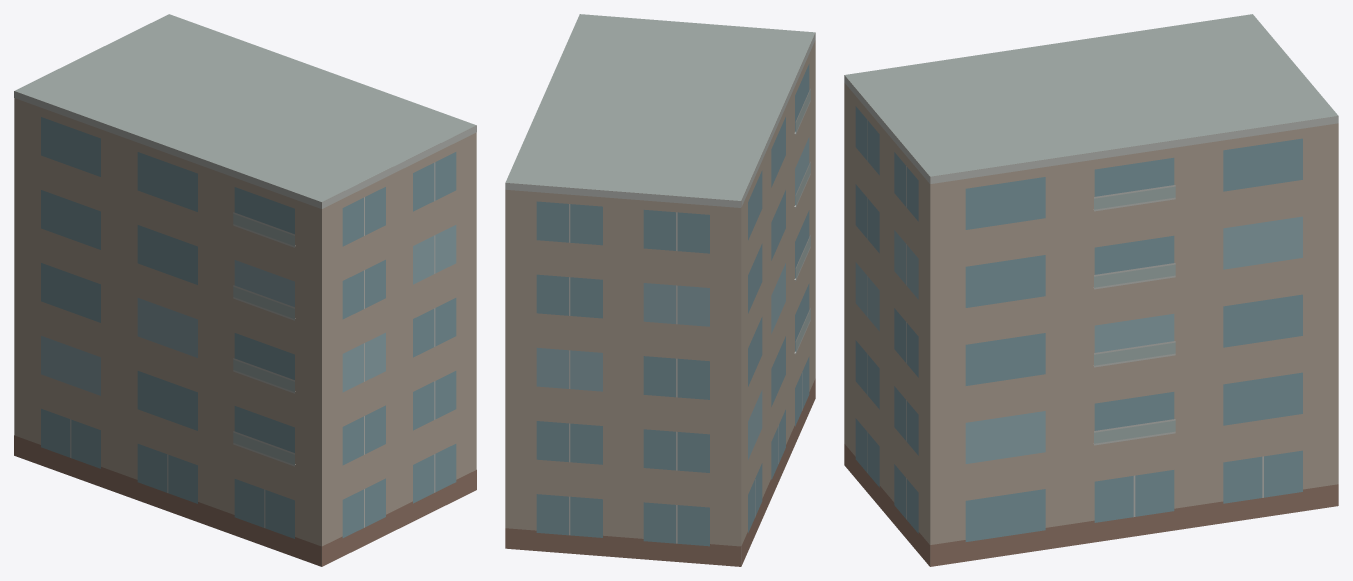
The model's file is survey-upis-32723432.glb.
3 views of the same model, side by side, from view 1: azimuth 30°, elevation 25°; view 2: azimuth 150°, elevation 25°; view 3: azimuth 270°, elevation 25° (orthographic). The views are drawn at different scales.
Visible parts, largest first — view 1: survey-upis-32723432.tmp; view 2: survey-upis-32723432.tmp; view 3: survey-upis-32723432.tmp.
Boxes of the visible parts, box(x1,y1,x2,y2) form: survey-upis-32723432.tmp: box(14, 14, 476, 566); survey-upis-32723432.tmp: box(505, 14, 815, 566); survey-upis-32723432.tmp: box(844, 14, 1338, 566).
Size of the model in its own units: 11.46 by 12.8 by 14.71.
